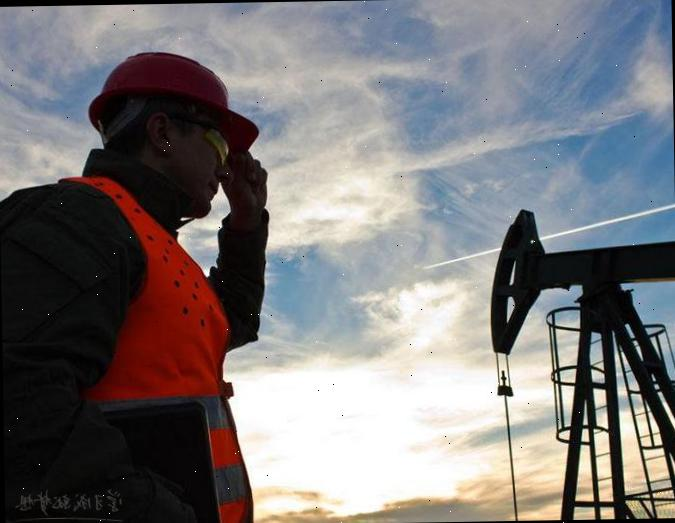helmet: (78, 46, 268, 134)
wear: (4, 162, 252, 523)
